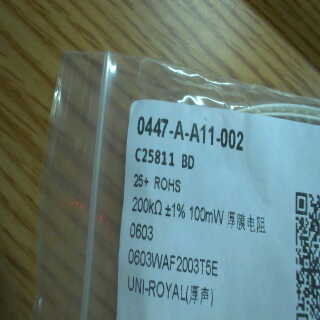200kR: (129, 196, 167, 217)
